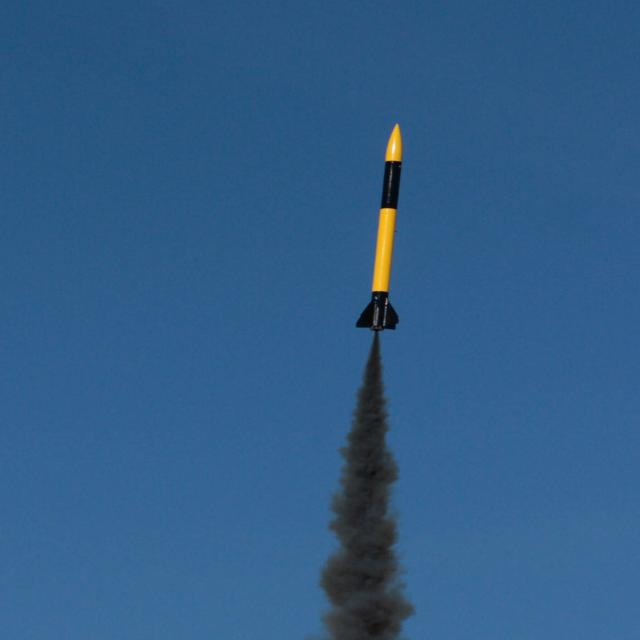Rocket: (354, 122, 402, 331)
